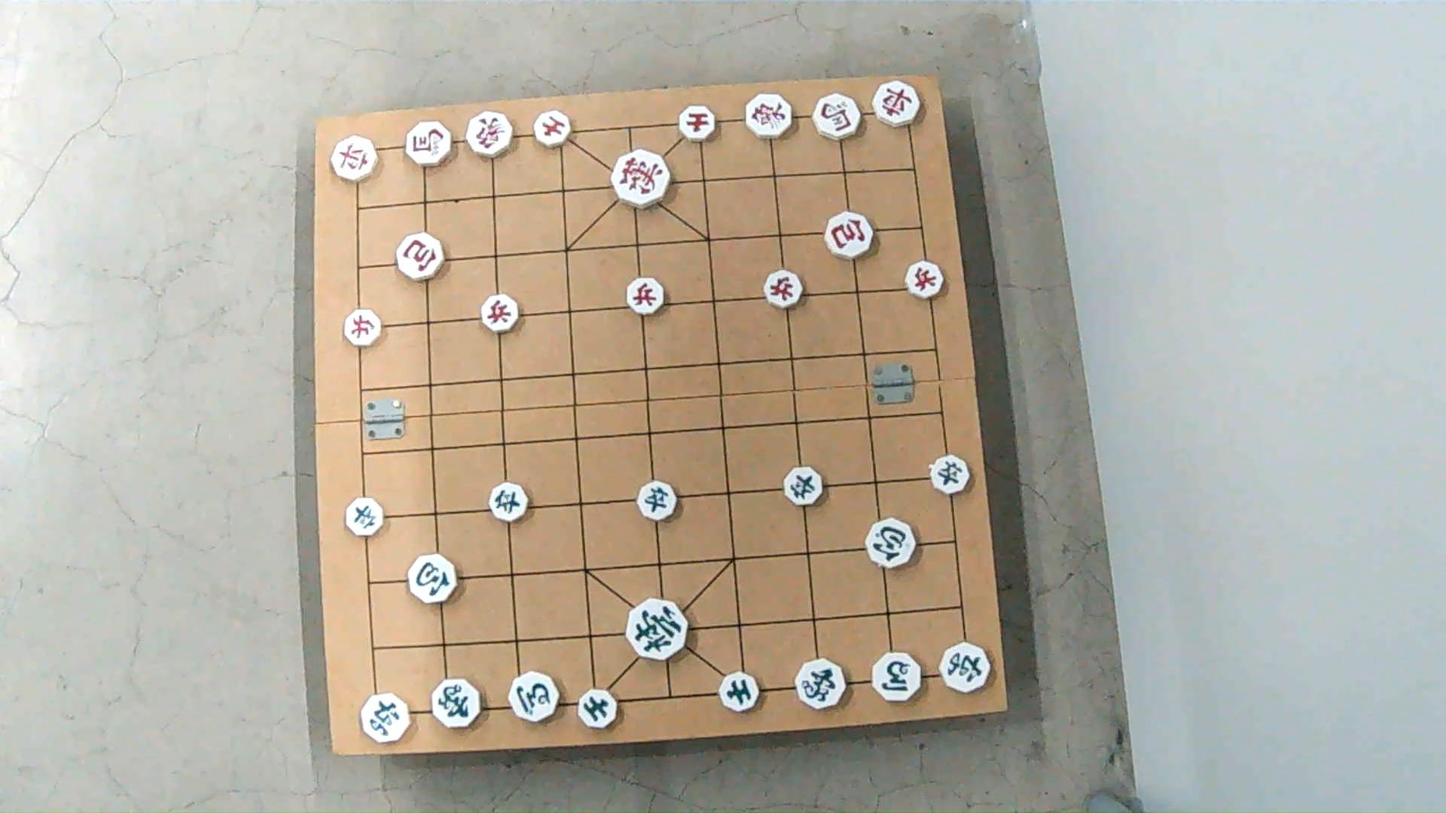cha_green: (937, 644, 991, 690), (362, 696, 413, 742)
cha_red: (871, 85, 923, 127), (334, 137, 383, 179)
jol_green: (634, 481, 680, 516), (930, 457, 975, 492), (783, 470, 826, 506), (484, 486, 528, 521), (348, 500, 391, 534)
jol_red: (901, 262, 944, 297), (477, 297, 519, 332), (767, 273, 809, 306), (624, 279, 664, 313), (346, 312, 388, 344)
ma_green: (509, 673, 562, 720), (871, 653, 924, 699)
ma_red: (809, 99, 864, 141), (403, 124, 451, 165)
po_green: (407, 556, 460, 602), (861, 519, 915, 563)
po_red: (825, 213, 877, 255), (394, 238, 444, 279)
sa_green: (579, 692, 622, 729), (719, 675, 761, 712)
sa_red: (529, 111, 570, 144), (676, 105, 718, 137)
sang_green: (429, 679, 482, 727), (795, 661, 848, 707)
sang_red: (465, 114, 515, 157), (742, 97, 793, 139)
wang_green: (626, 601, 688, 656)
wang_red: (612, 155, 670, 206)
